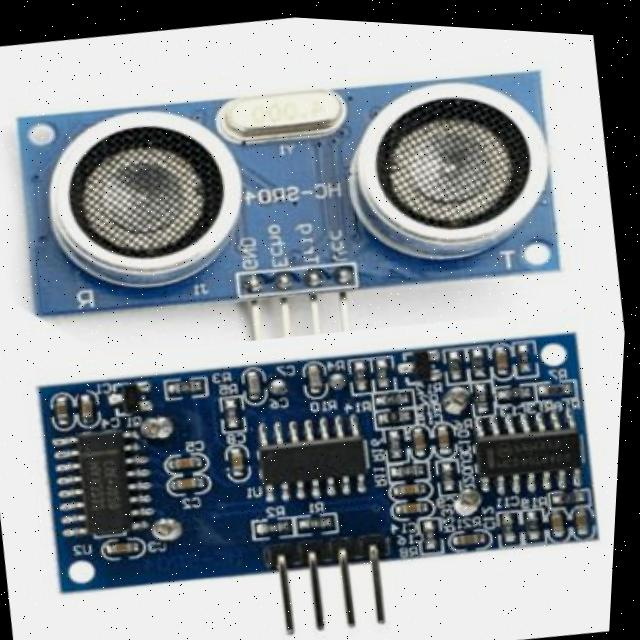Ultrasonic Sensor: (3, 51, 585, 365)
